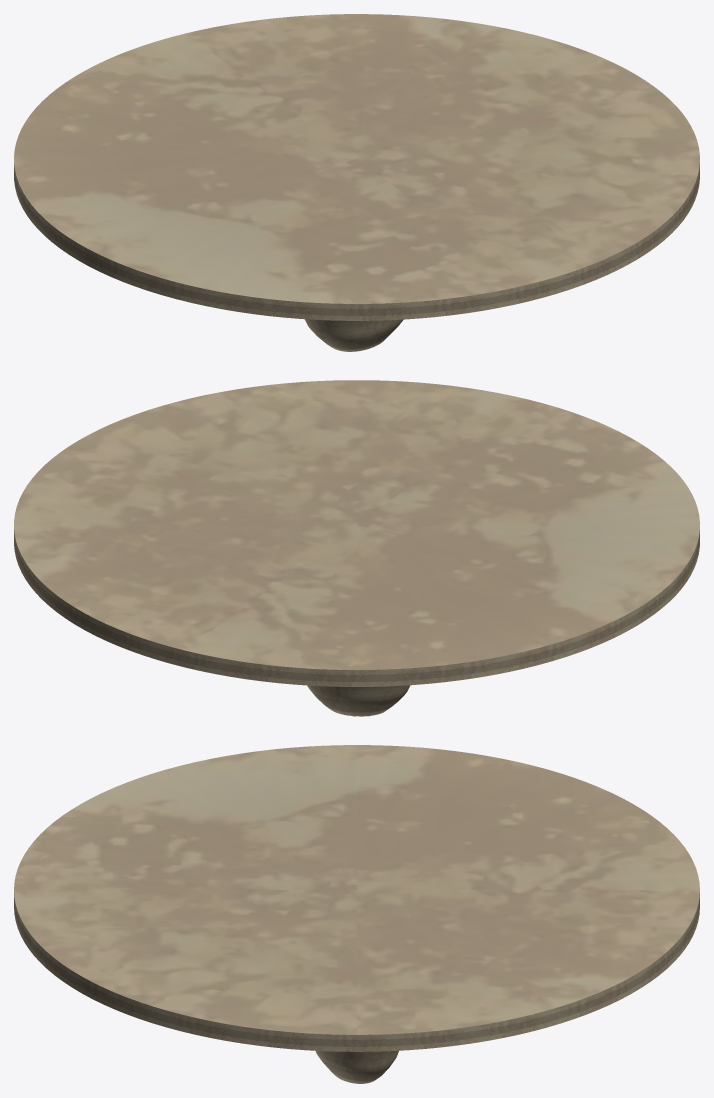
Rendered from island_large.glb.
3 views of the same model, one above another, from view 1: azimuth 30°, elevation 25°; view 2: azimuth 150°, elevation 25°; view 3: azimuth 270°, elevation 25° (orthographic).
Visible parts, largest first — view 1: IslandStone; view 2: IslandStone; view 3: IslandStone.
Boxes of the visible parts, box(x1,y1,x2,y2) form: IslandStone: box(14, 14, 699, 351); IslandStone: box(14, 380, 699, 716); IslandStone: box(14, 745, 699, 1083).
Bounding box in the file's own units: 44 × 8 × 44.
Materials: 1 (1 with a texture image).
